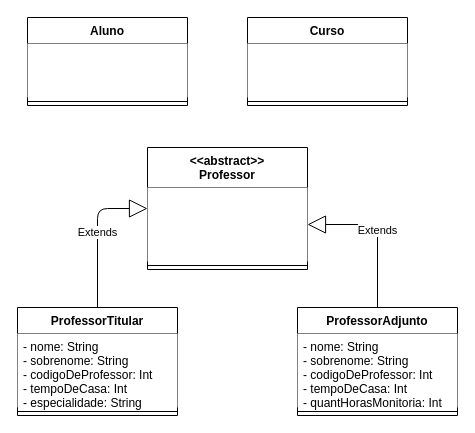
Image size: 475x433. Some labels were removed from this diagram. The centre of each missing label's shape, as x and y in pixels:
"- nome: String - codigoDeCurso: Int" goes at pixel 327 70.
"- nome: String - sobrenome: String - codigoDeAluno: Int" goes at pixel 107 70.
"- nome: String - sobrenome: String - codigoDeProfessor: Int - tempoDeCasa: Int" goes at pixel 227 224.
